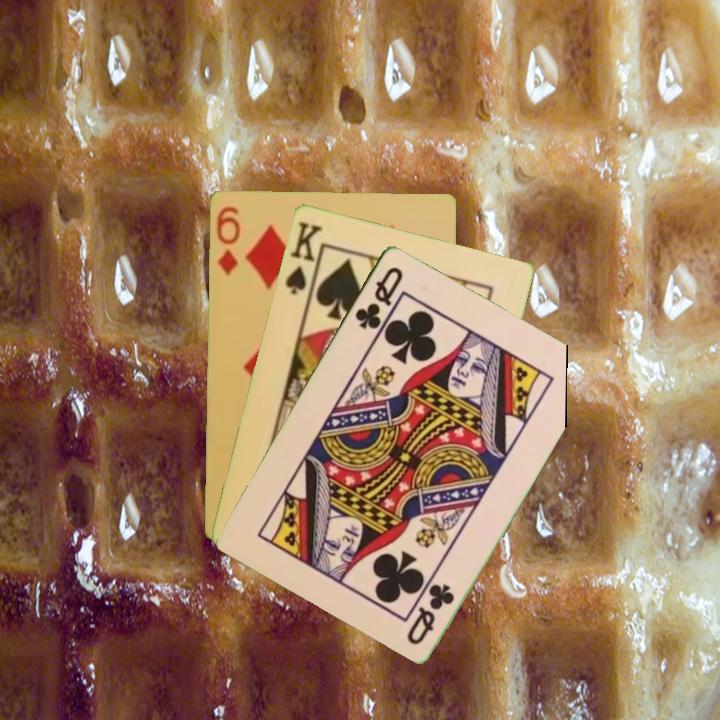6d: (212, 202, 243, 278)
Ks: (281, 217, 325, 301)
Qc: (402, 579, 458, 648), (351, 262, 406, 332)
